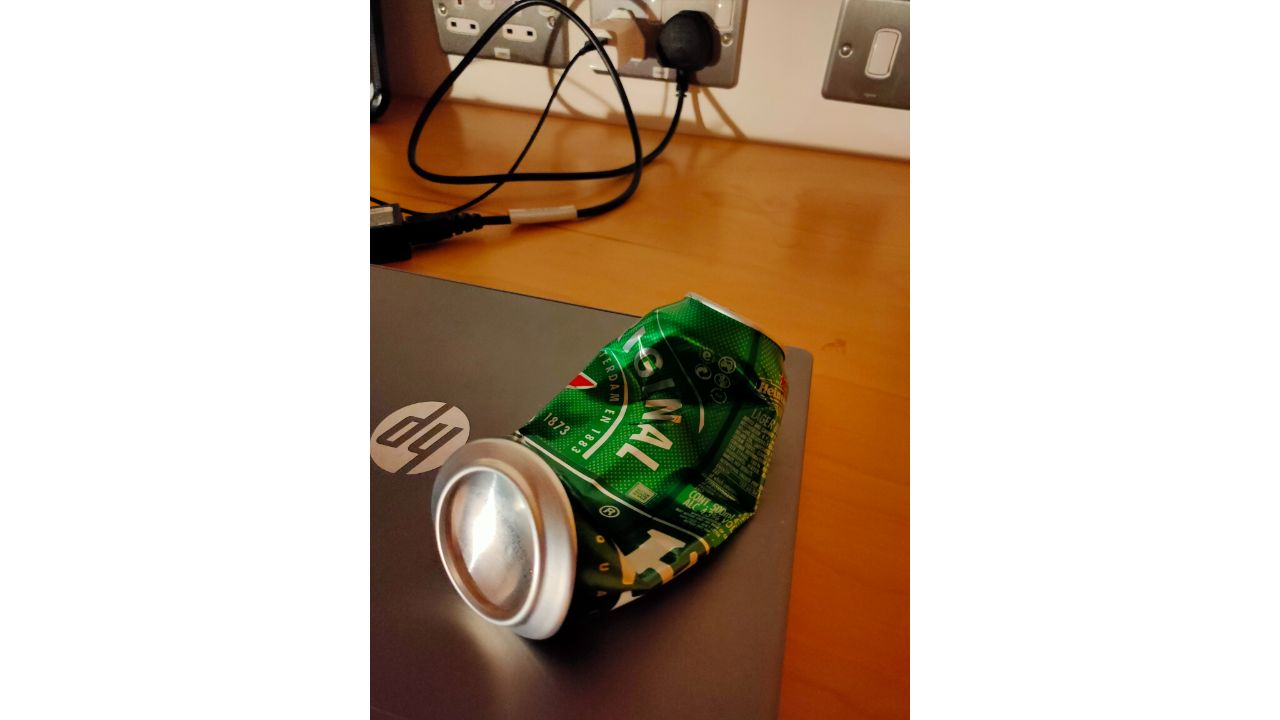Can: (428, 292, 794, 641)
